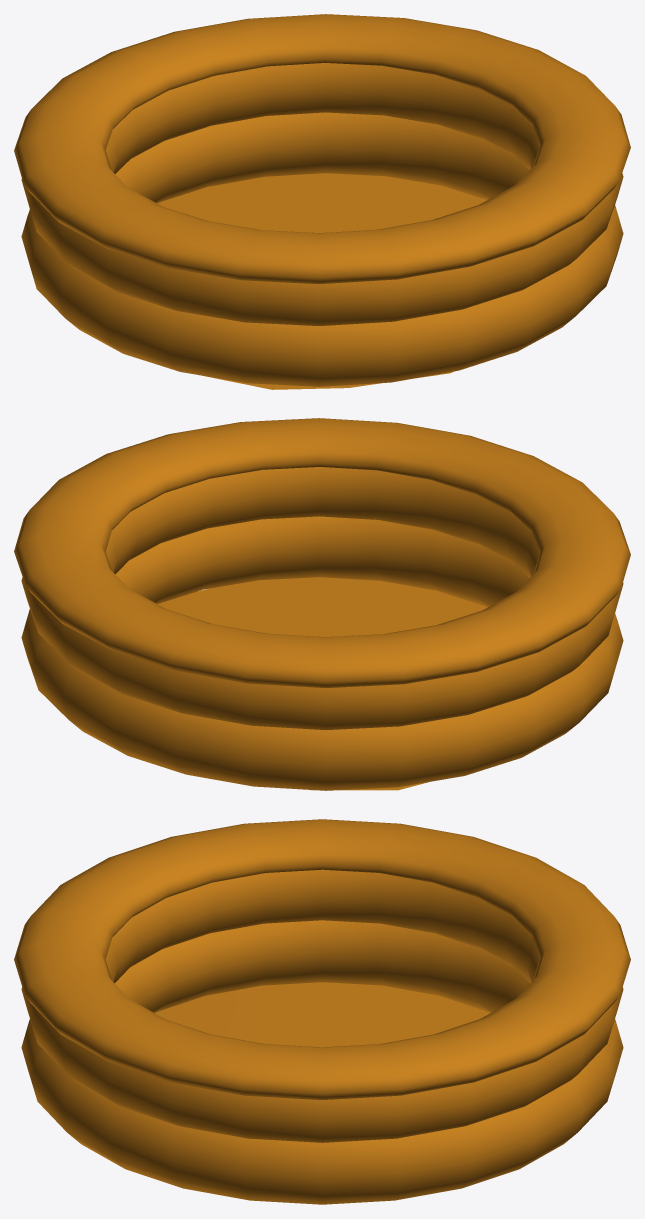
File: Piscina de bolas.fbx
The picture shows the model from 3 angles, top to bottom: view 1: azimuth 30°, elevation 25°; view 2: azimuth 150°, elevation 25°; view 3: azimuth 270°, elevation 25°; orthographic projection. The views are drawn at different scales.
Visible parts, largest first — view 1: Piscina; view 2: Piscina; view 3: Piscina.
Boxes of the visible parts, x1,y1,x2,y2 form: Piscina: (14, 14, 630, 389); Piscina: (14, 418, 630, 790); Piscina: (14, 819, 630, 1204).
Bounding box in the file's own units: 106 × 27.97 × 103.
